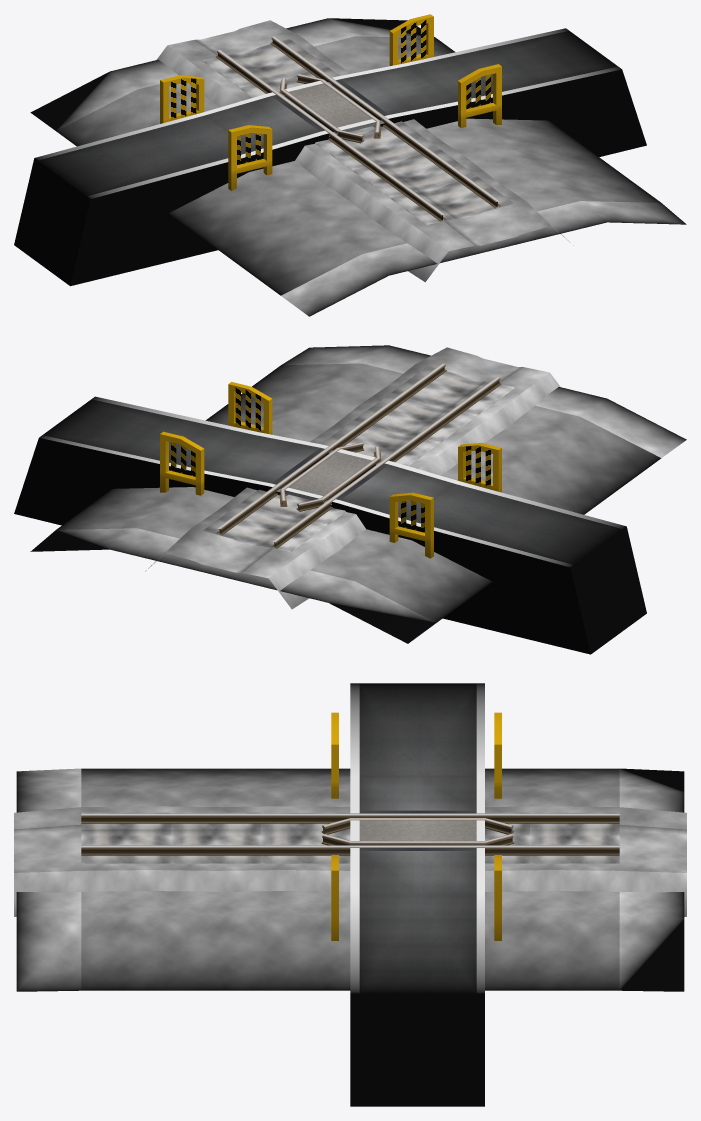
File: NK_1RAIL_HUMIKIRI25_NO.glb
3 views of the same model, one above another, from view 1: azimuth 30°, elevation 25°; view 2: azimuth 150°, elevation 25°; view 3: azimuth 270°, elevation 25° (orthographic). The views are drawn at different scales.
Visible parts, largest first — view 1: obj3, obj8, obj7; view 2: obj3, obj7, obj8; view 3: obj3, obj8, obj7.
Part boxes in pixels (x1,y1,x2,y2): obj3: (14, 18, 686, 316); obj8: (228, 64, 501, 190); obj7: (160, 14, 433, 123); obj3: (14, 345, 686, 654); obj7: (160, 431, 433, 558); obj8: (228, 382, 501, 492); obj3: (14, 683, 686, 1106); obj8: (331, 712, 338, 940); obj7: (494, 712, 501, 940).
Bounding box in the file's own units: 37 × 7.5 × 31.25.
9 materials, 8 textured.
